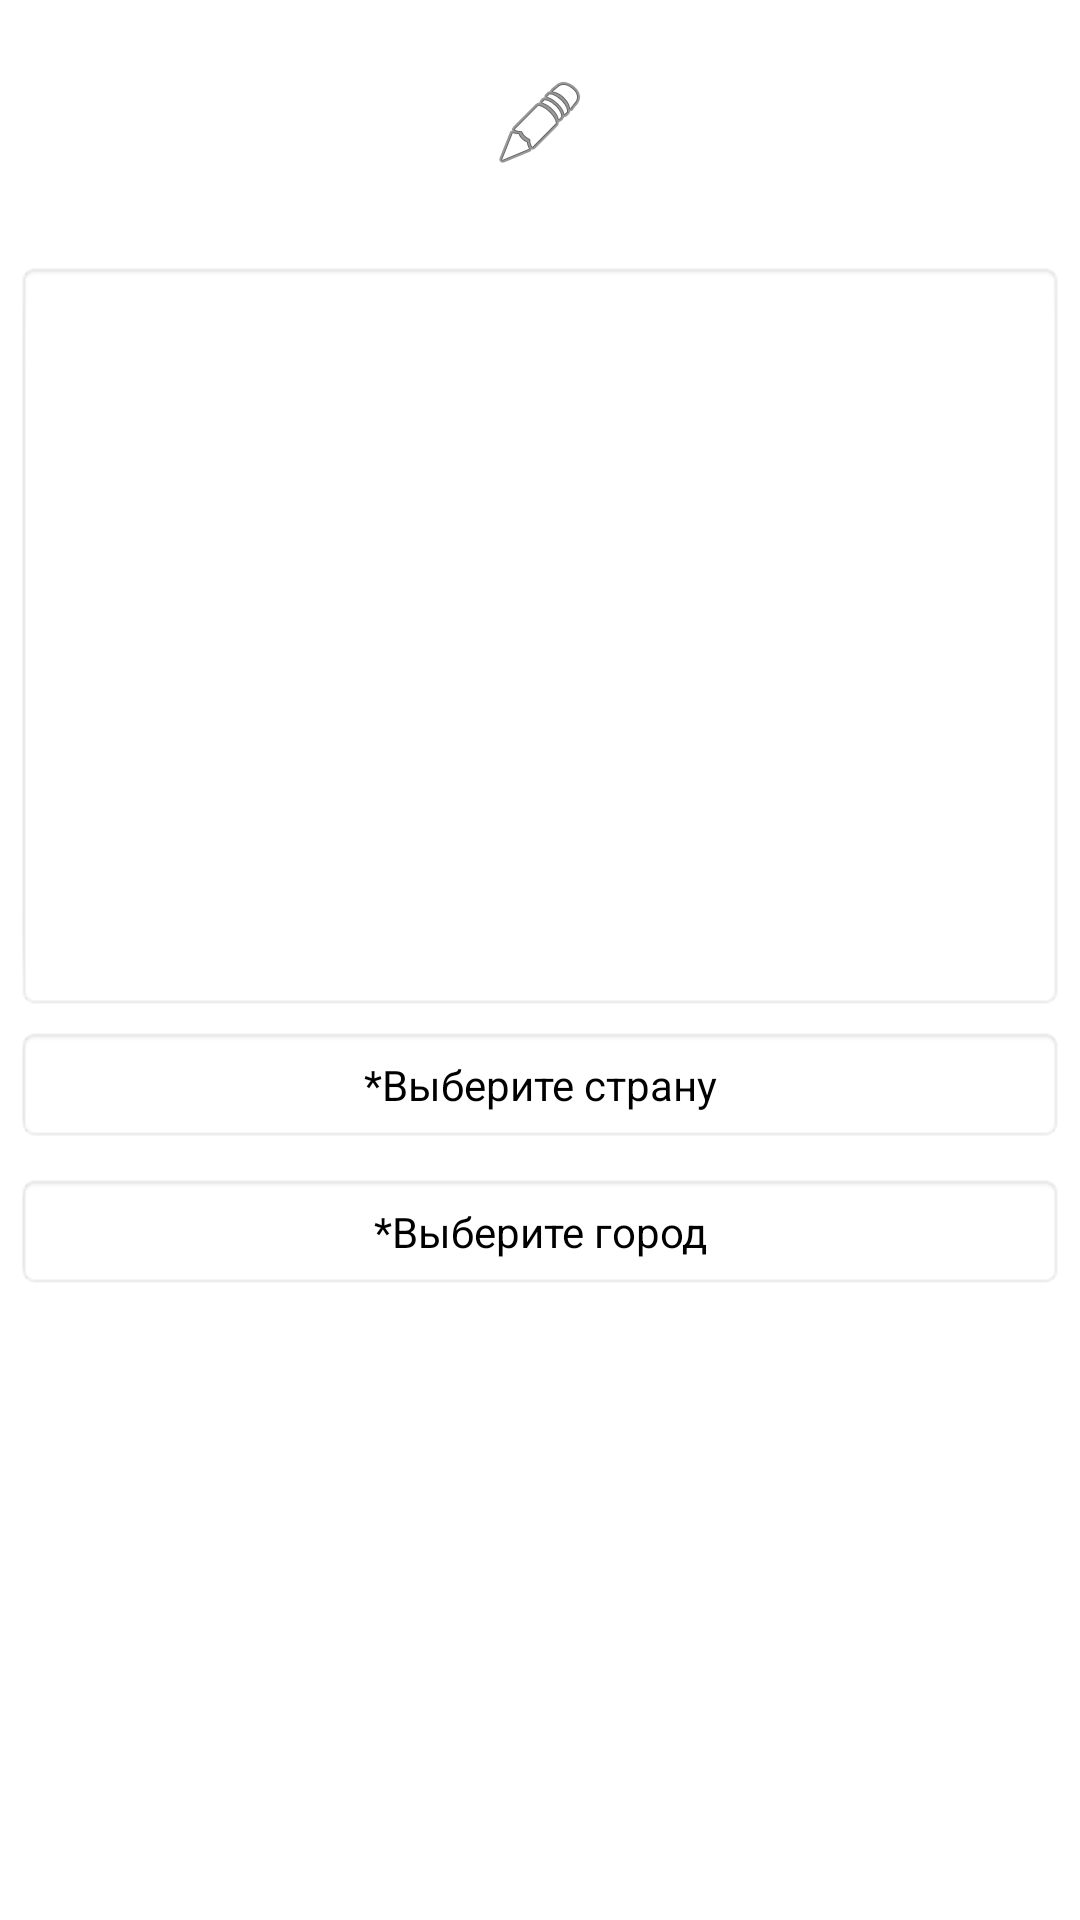

Where icons sit on this 1080px×1920px app screen, as (x1, y1, x2, y2):
edit: (499, 82, 580, 163)
